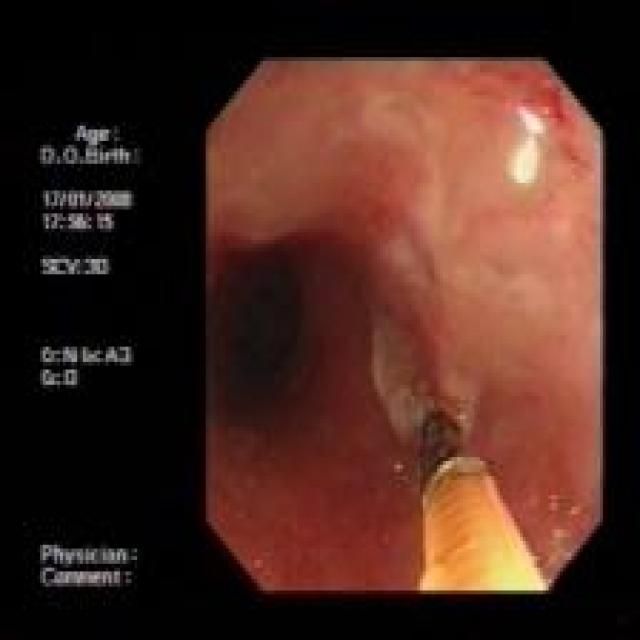color misalignment: (35, 112, 151, 593)
contrast: (212, 244, 320, 422)
instrument: (418, 407, 547, 591)
saturation: (481, 536, 544, 590)
specularity: (508, 100, 552, 189)
